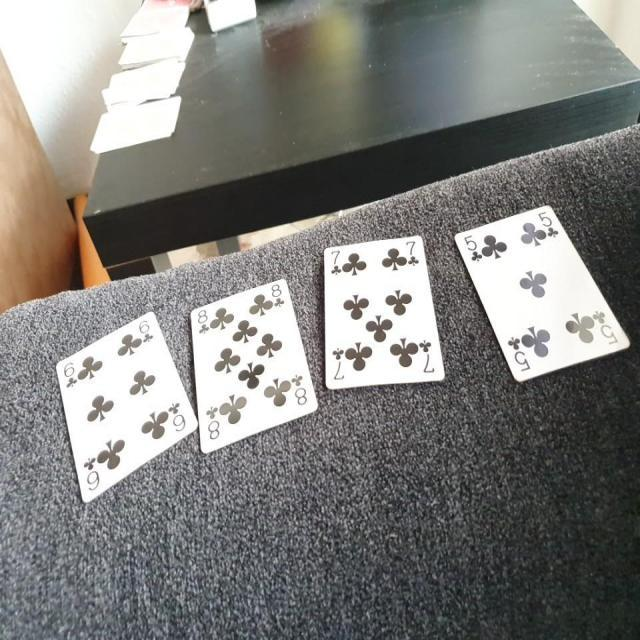5 of clubs: (452, 201, 634, 389)
6 of clubs: (55, 309, 198, 506)
7 of clubs: (322, 234, 447, 392)
8 of clubs: (188, 276, 320, 458)
